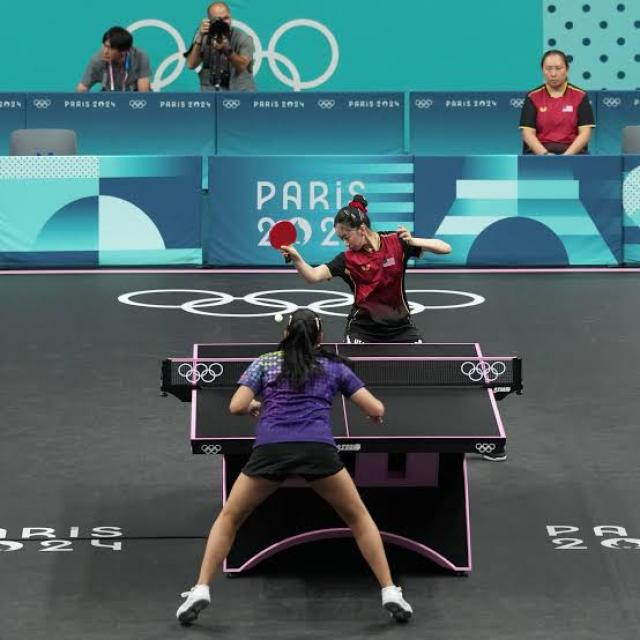TT Net: (158, 355, 526, 393)
TT Racket: (264, 214, 302, 255)
TT Table: (193, 343, 506, 439)
